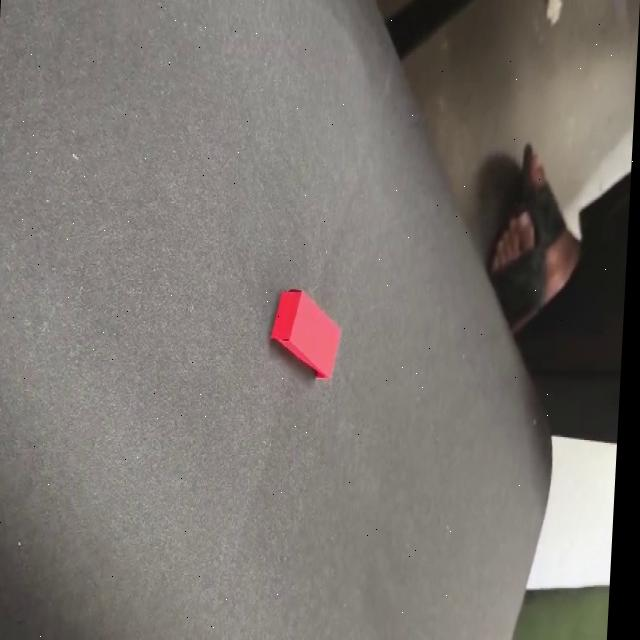red block: (267, 287, 344, 381)
